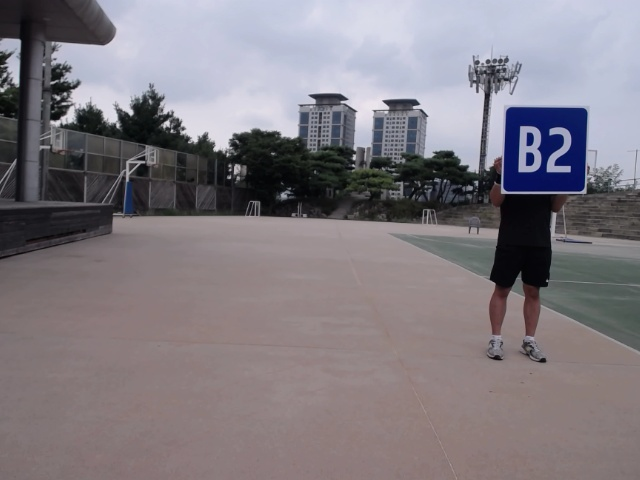delivery_b2: (504, 105, 588, 195)
